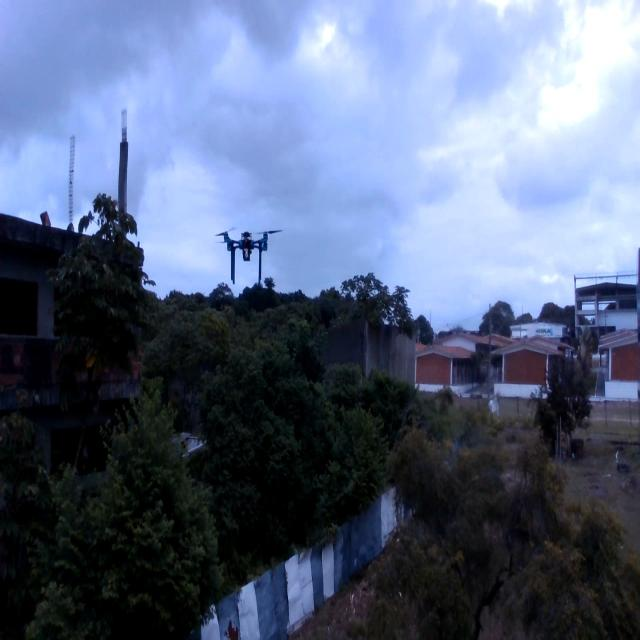-uav-: (208, 218, 281, 301)
